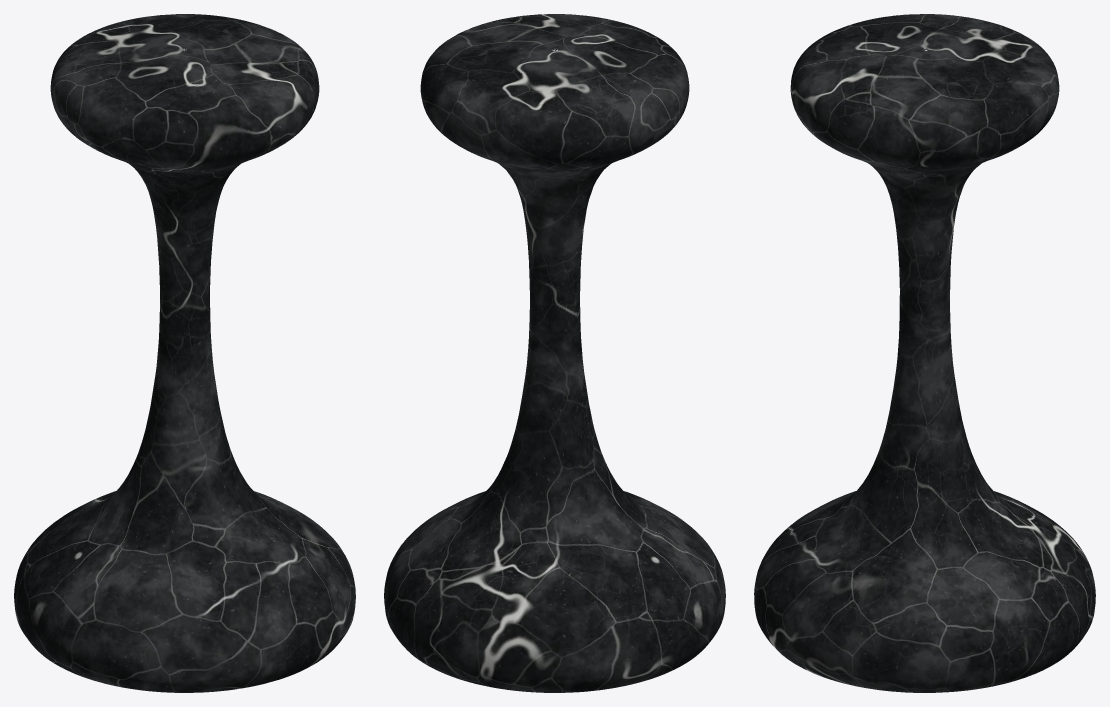
File: rook-black-hd.glb
3 views of the same model, side by side, from view 1: azimuth 30°, elevation 25°; view 2: azimuth 150°, elevation 25°; view 3: azimuth 270°, elevation 25° (orthographic).
Visible parts, largest first — view 1: Serpentina_rook_black; view 2: Serpentina_rook_black; view 3: Serpentina_rook_black.
Boxes of the visible parts, box(x1,y1,x2,y2) form: Serpentina_rook_black: box(14, 14, 355, 692); Serpentina_rook_black: box(384, 14, 725, 692); Serpentina_rook_black: box(754, 14, 1095, 692).
Size of the model in its own units: 0.6539 by 1.22 by 0.6539.
Materials: 1 (1 with a texture image).
